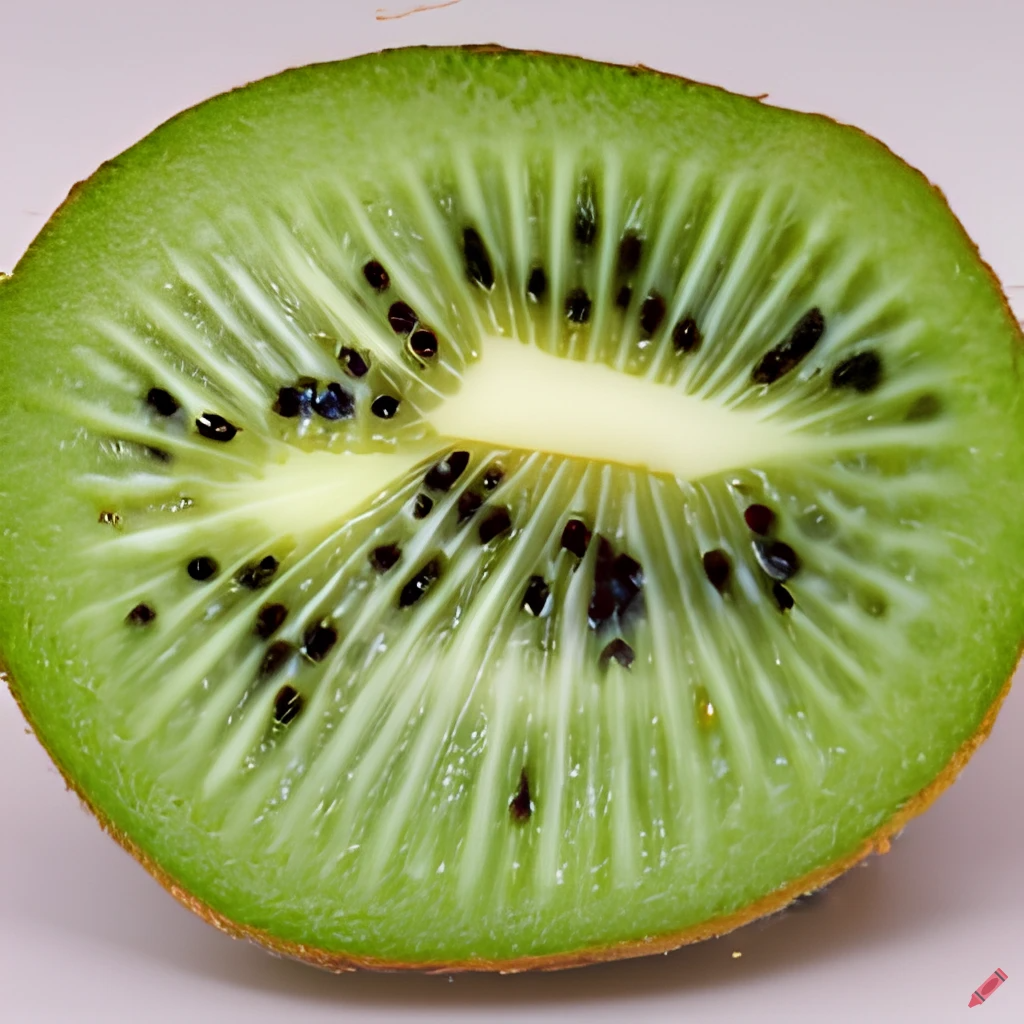Kiwi: (0, 45, 1024, 980)
